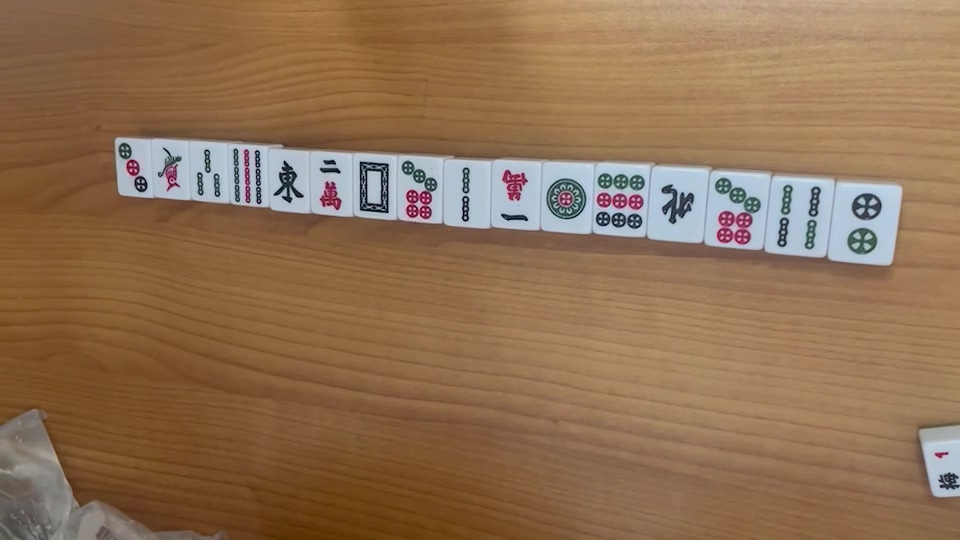b-1: (150, 141, 186, 195)
b-2: (456, 164, 474, 225)
b-3: (194, 142, 224, 201)
b-4: (774, 182, 823, 252)
b-9: (230, 148, 263, 204)
c-1: (496, 164, 534, 226)
c-2: (315, 156, 345, 210)
d-1: (543, 175, 589, 219)
d-2: (841, 188, 886, 256)
d-3: (115, 141, 151, 195)
d-7: (712, 177, 762, 248), (399, 159, 439, 219)
d-9: (595, 172, 648, 231)
honors-east: (274, 160, 305, 207)
honors-north: (655, 183, 696, 227)
honors-white: (357, 157, 392, 213)
